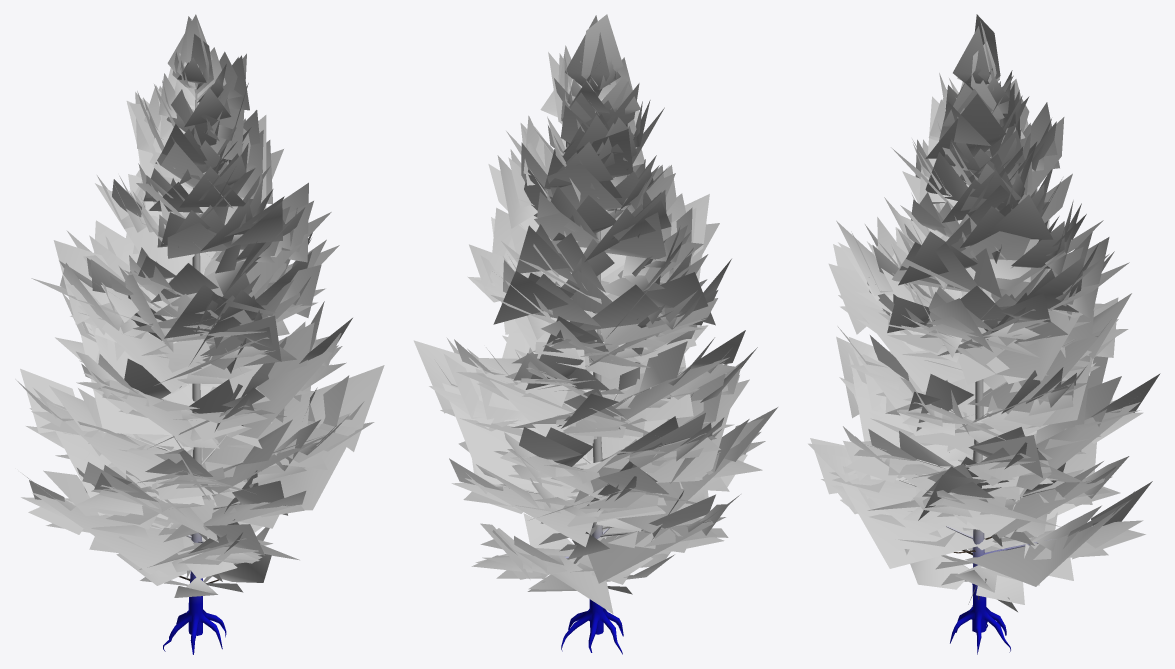
File: Tree6_LOD1.fbx
3 renders of one model, left to right at view 1: azimuth 30°, elevation 25°; view 2: azimuth 150°, elevation 25°; view 3: azimuth 270°, elevation 25°, orthographic.
Parts seen in each view (by area): view 1: polySurface3170; view 2: polySurface3170; view 3: polySurface3170.
Part boxes in pixels (x1,y1,x2,y2): polySurface3170: [15, 14, 384, 654]; polySurface3170: [413, 14, 777, 654]; polySurface3170: [808, 14, 1160, 654].
Bounding box in the file's own units: 484 × 881 × 450.
